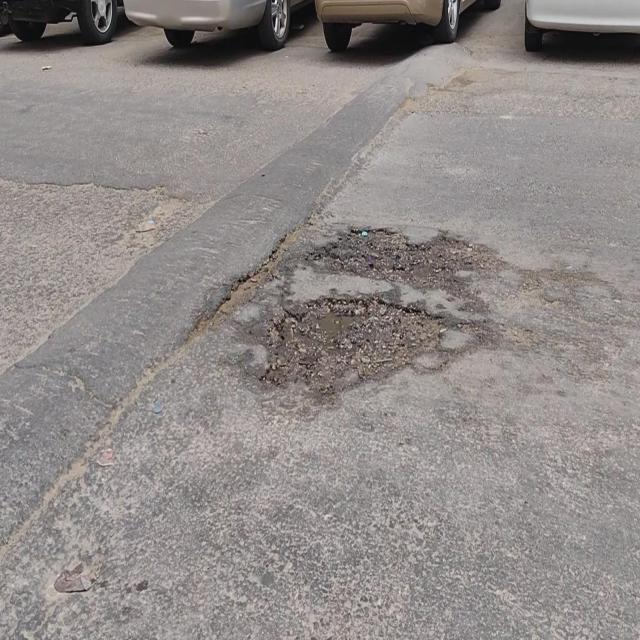Potholes: (269, 296, 439, 394), (326, 225, 480, 292)
